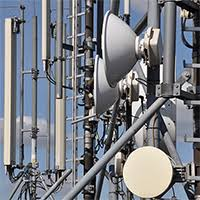ba: (96, 10, 146, 83), (122, 138, 176, 200)
sa: (5, 10, 19, 169), (38, 9, 54, 62)
